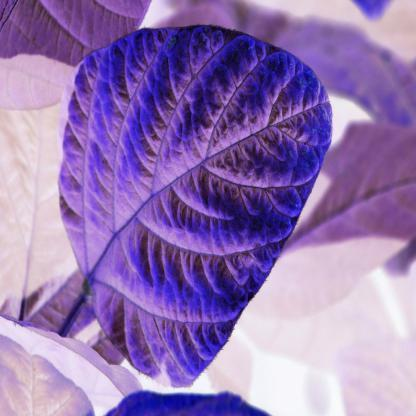Soyabean leaf: (57, 24, 334, 395)
